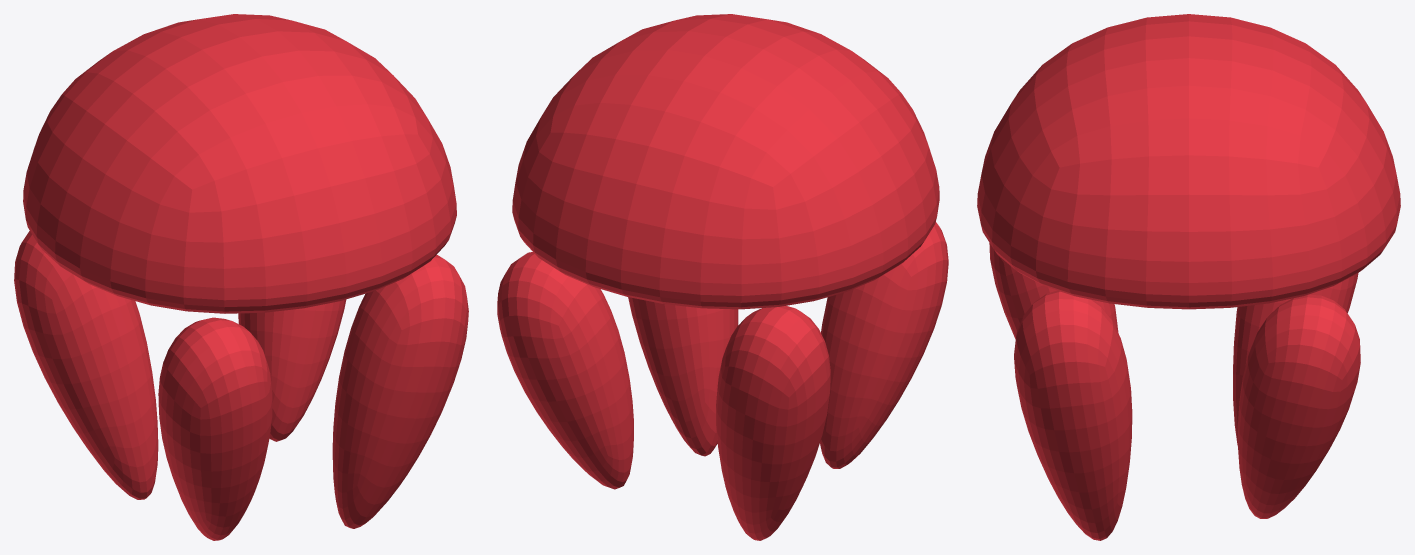
File: red_creep.glb
3 views of the same model, side by side, from view 1: azimuth 30°, elevation 25°; view 2: azimuth 150°, elevation 25°; view 3: azimuth 270°, elevation 25° (orthographic).
Parts seen in each view (by area): view 1: Cube.003; view 2: Cube.003; view 3: Cube.003.
Boxes of the visible parts, x1=… form: Cube.003: x1=14, y1=14, x2=468, y2=540; Cube.003: x1=497, y1=14, x2=948, y2=540; Cube.003: x1=977, y1=14, x2=1400, y2=540.
Bounding box in the file's own units: 1.59 × 1.95 × 1.59.
